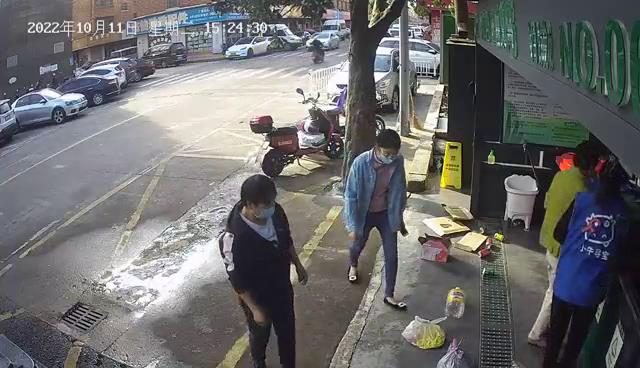garbage-bag: (401, 314, 447, 351), (436, 335, 472, 368)
lvzhipin: (481, 266, 495, 278), (478, 247, 490, 258), (493, 231, 505, 241), (486, 237, 493, 248)
person: (217, 174, 308, 368), (526, 138, 604, 350)
suliaozhipin: (444, 285, 466, 320)
worker: (542, 154, 631, 368), (343, 128, 410, 312)
zhizhipin: (417, 231, 452, 265), (421, 216, 471, 236), (455, 230, 488, 253), (441, 202, 476, 221)
